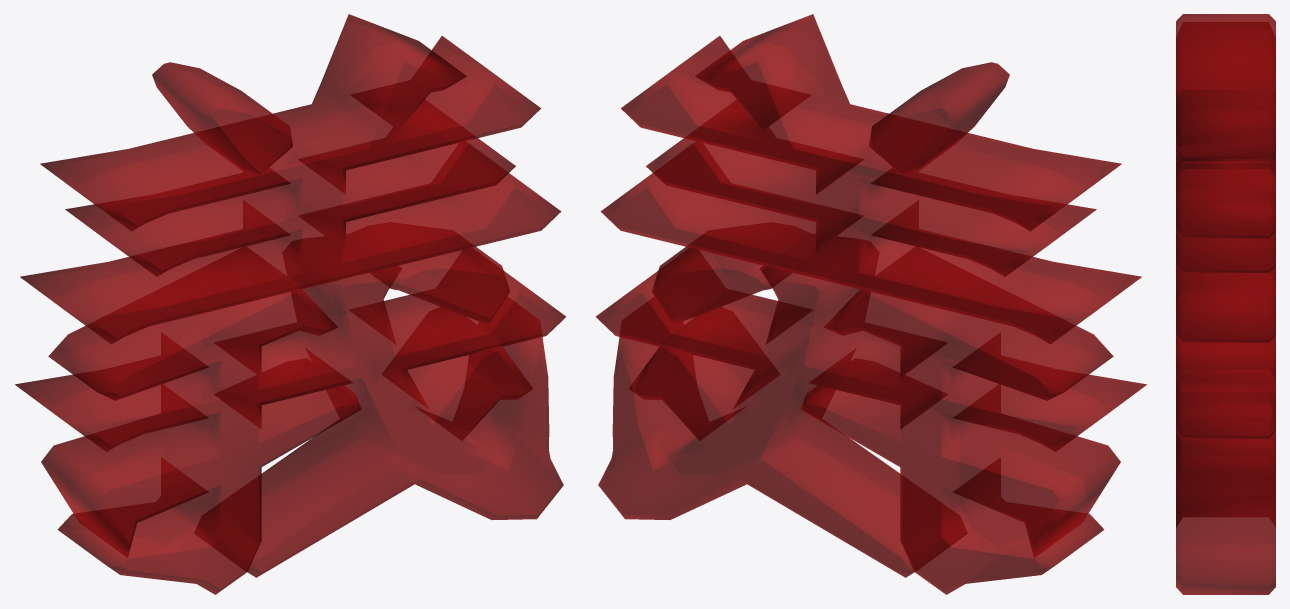
The model's file is quest07.glb.
The picture shows the model from 3 angles, left to right: view 1: azimuth 30°, elevation 25°; view 2: azimuth 150°, elevation 25°; view 3: azimuth 270°, elevation 25°; orthographic projection. The views are drawn at different scales.
Visible parts, largest first — view 1: Text.007; view 2: Text.007; view 3: Text.007.
Boxes of the visible parts, box(x1,y1,x2,y2) form: Text.007: box(15, 14, 566, 594); Text.007: box(595, 14, 1146, 594); Text.007: box(1176, 14, 1275, 594).
Bounding box in the file's own units: 0.7195 × 0.6878 × 0.14.
